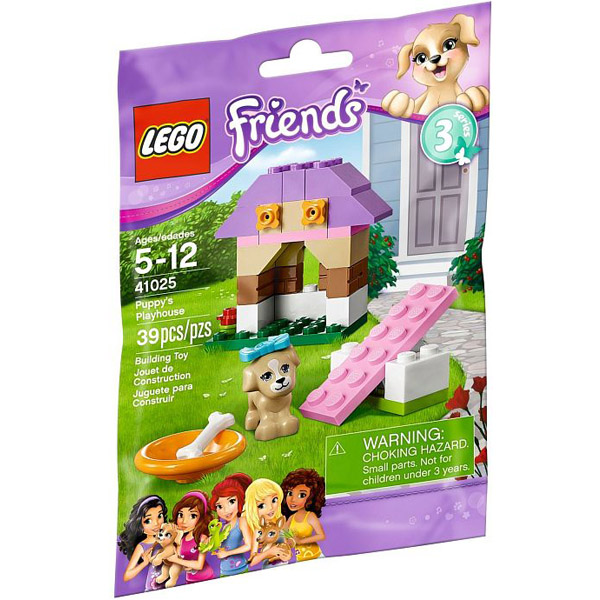LEGO: (120, 95, 225, 189)
